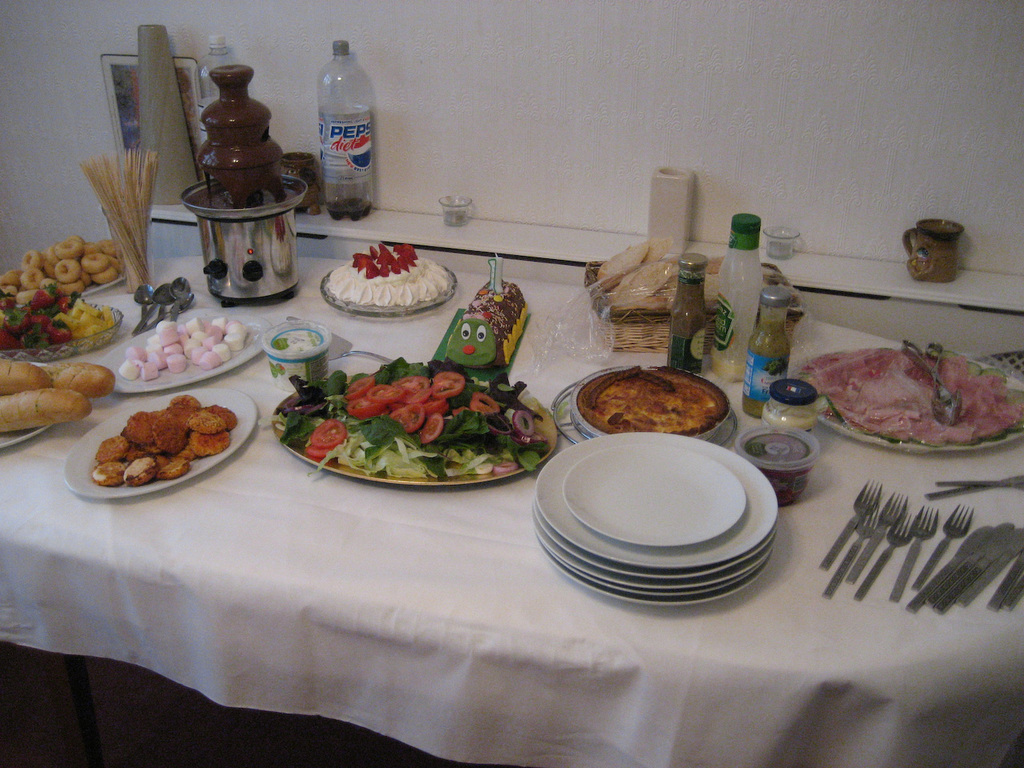plate: (272, 360, 564, 482), (544, 430, 780, 560), (564, 447, 744, 548)
